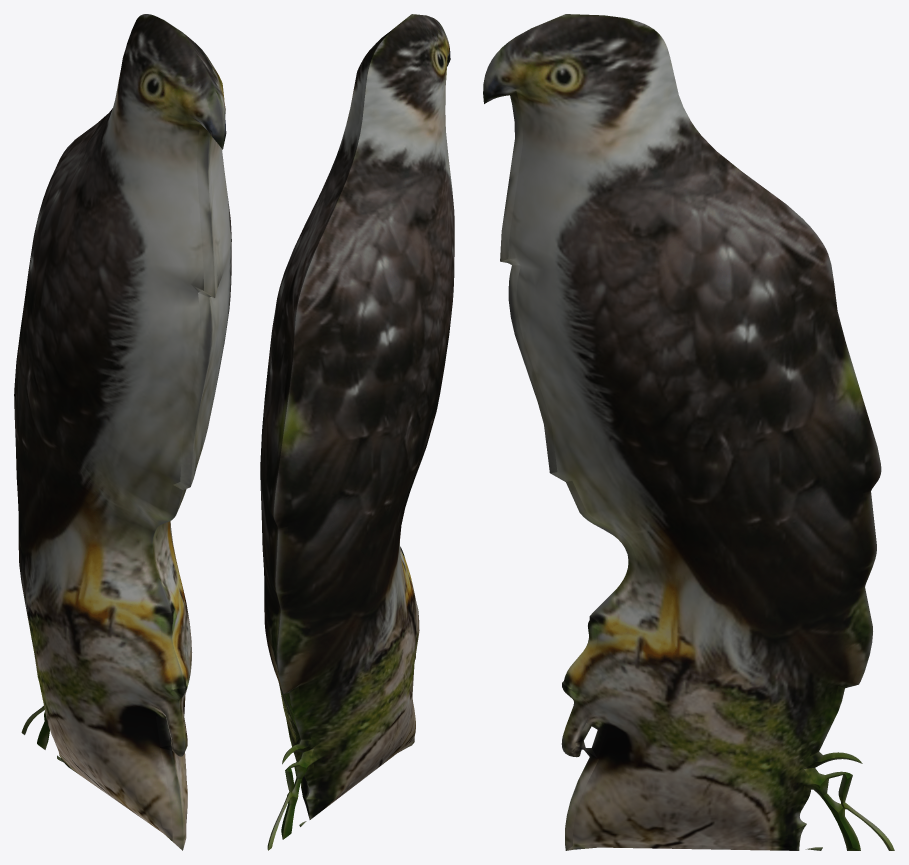
The model's file is Accipiter-bicolor1.glb.
3 views of the same model, side by side, from view 1: azimuth 30°, elevation 25°; view 2: azimuth 150°, elevation 25°; view 3: azimuth 270°, elevation 25° (orthographic). The views are drawn at different scales.
Parts seen in each view (by area): view 1: node1; view 2: node1; view 3: node1.
Boxes of the visible parts, box(x1,y1,x2,y2) form: node1: box(14, 14, 231, 850); node1: box(260, 14, 454, 850); node1: box(483, 14, 894, 850).
Size of the model in its own units: 0.2315 by 1.12 by 0.5.
1 material, 1 textured.
